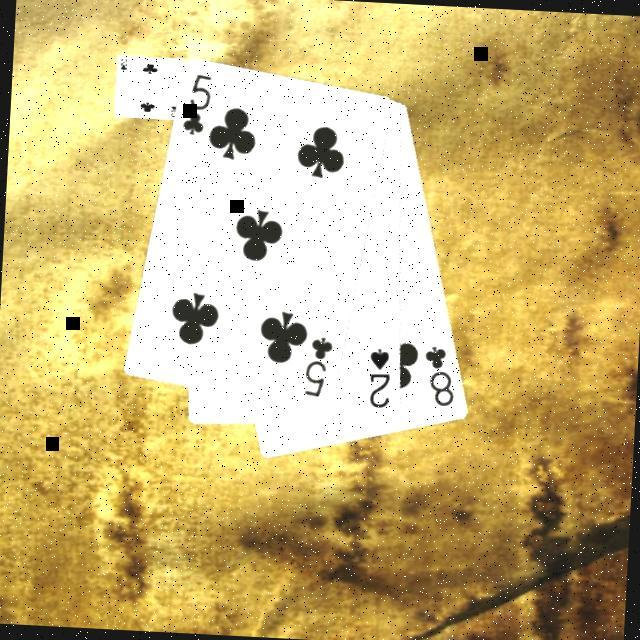2S: (364, 344, 394, 411)
5C: (301, 332, 336, 401), (179, 70, 214, 139)
8C: (418, 342, 459, 411)
